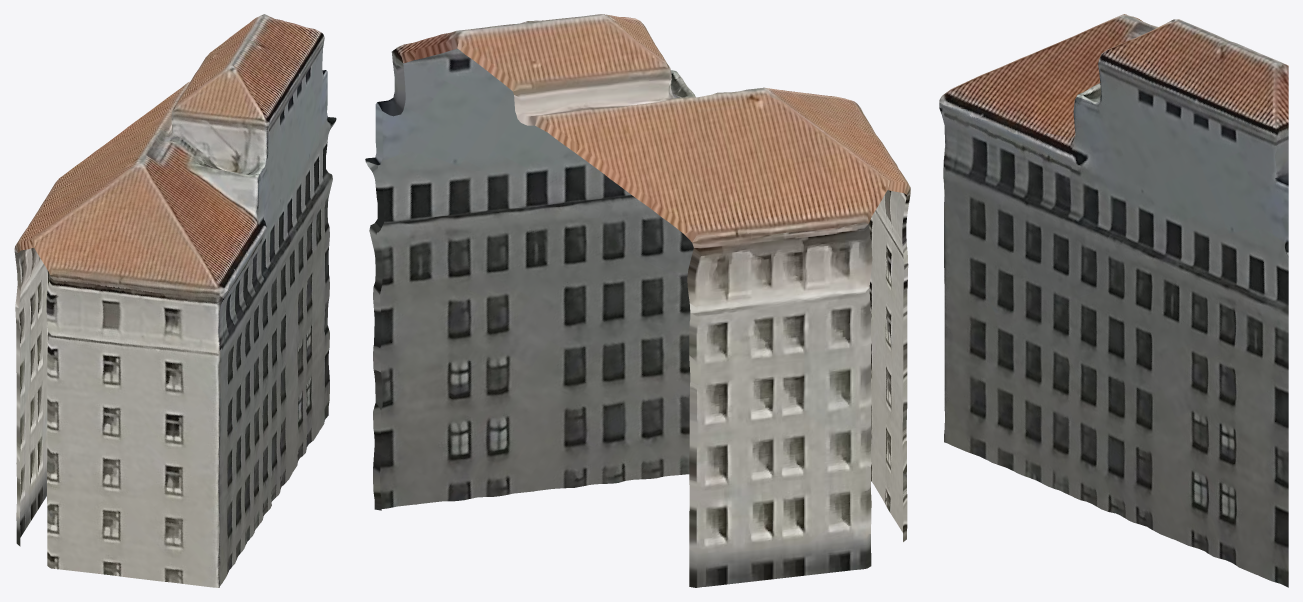
File: z20-167782-405233-h1-yup-uvflip-v3-world.glb
3 views of the same model, side by side, from view 1: azimuth 30°, elevation 25°; view 2: azimuth 150°, elevation 25°; view 3: azimuth 270°, elevation 25° (orthographic). The views are drawn at different scales.
Size of the model in its own units: 30 by 32.36 by 21.04.
Materials: 1 (1 with a texture image).
